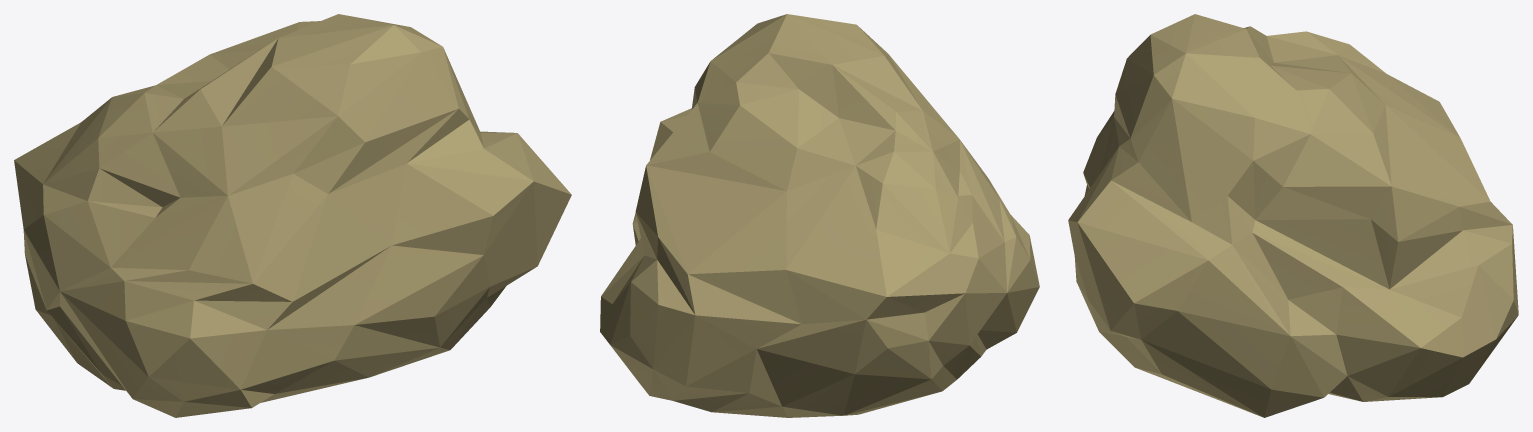
Rendered from SM_rock_51.fbx.
3 renders of one model, left to right at view 1: azimuth 30°, elevation 25°; view 2: azimuth 150°, elevation 25°; view 3: azimuth 270°, elevation 25°, orthographic. The views are drawn at different scales.
Visible parts, largest first — view 1: rock_51; view 2: rock_51; view 3: rock_51.
Boxes of the visible parts, <box> form: rock_51: <box>14,14,571,417</box>; rock_51: <box>600,14,1039,417</box>; rock_51: <box>1068,14,1518,417</box>.
Bounding box in the file's own units: 296 × 231 × 270.
